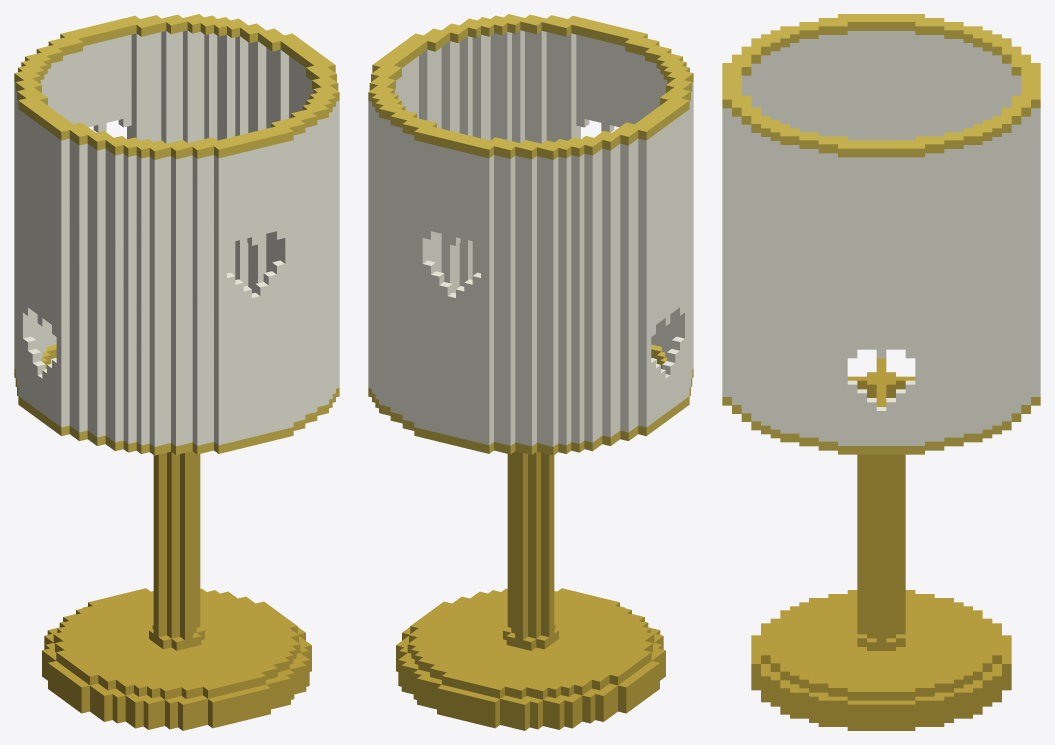
The model's file is lampe.obj.
The picture shows the model from 3 angles, left to right: view 1: azimuth 30°, elevation 25°; view 2: azimuth 150°, elevation 25°; view 3: azimuth 270°, elevation 25°; orthographic projection.
Bounding box in the file's own units: 33 × 68 × 33.
1 material, 1 textured.
